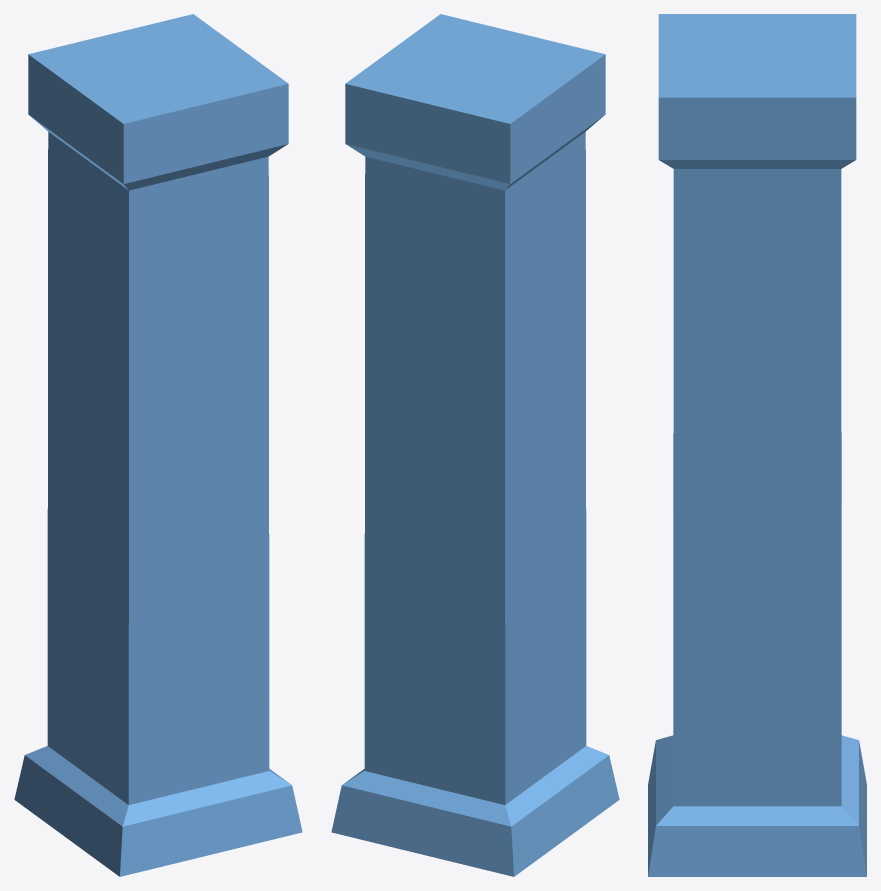
File: qiang_10.FBX
The picture shows the model from 3 angles, left to right: view 1: azimuth 30°, elevation 25°; view 2: azimuth 150°, elevation 25°; view 3: azimuth 270°, elevation 25°; orthographic projection. The views are drawn at different scales.
Visible parts, largest first — view 1: Object277; view 2: Object277; view 3: Object277.
Part boxes in pixels (box(x1,y1,x2,y2)): Object277: box(14, 14, 302, 876); Object277: box(331, 14, 619, 876); Object277: box(648, 14, 866, 876).
Size of the model in its own units: 126 by 492 by 126.
